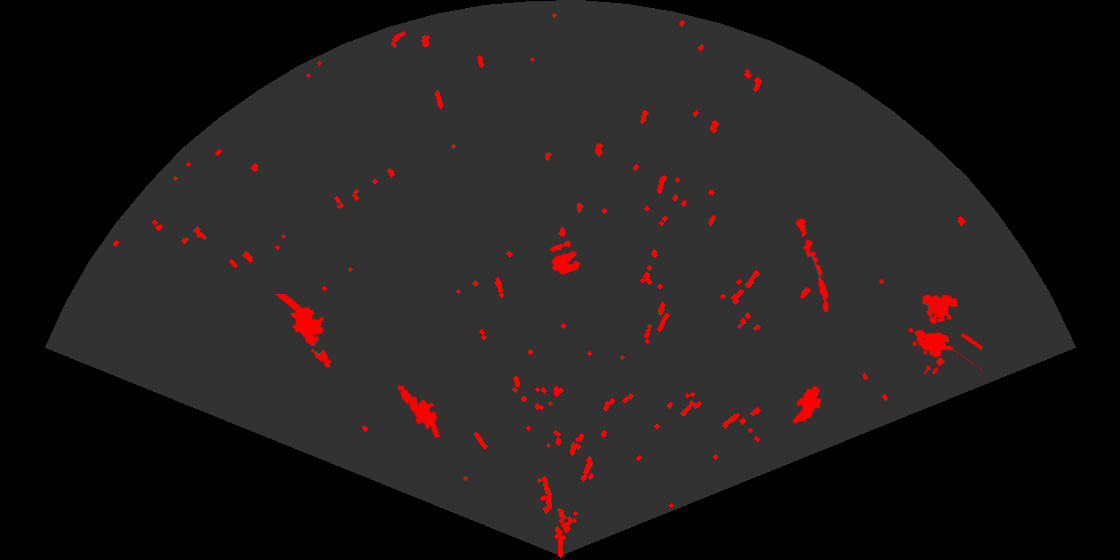AUV: (791, 384, 823, 426)
ball: (549, 239, 582, 276)
cage: (907, 293, 982, 374)
chain: (794, 216, 831, 314)
frogman: (274, 294, 333, 369), (396, 383, 442, 437)
